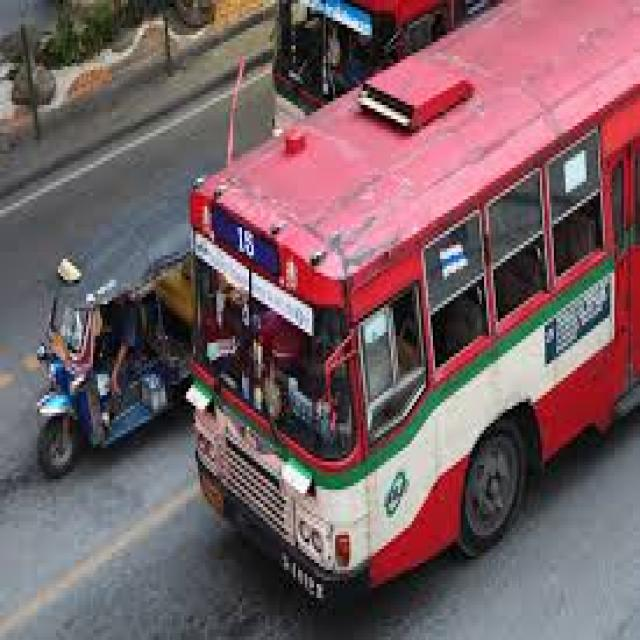bus: (193, 101, 640, 601)
tuktuk: (24, 254, 192, 490)
